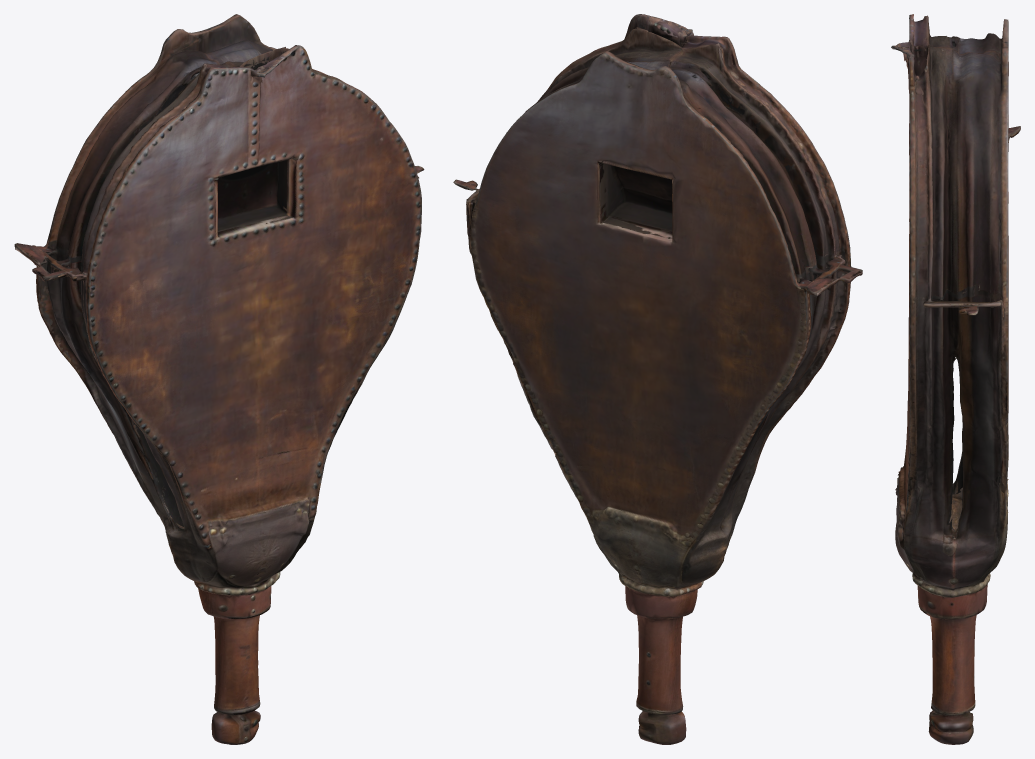
Rendered from a042_el_korugu.glb.
3 views of the same model, side by side, from view 1: azimuth 30°, elevation 25°; view 2: azimuth 150°, elevation 25°; view 3: azimuth 270°, elevation 25° (orthographic).
Size of the model in its own units: 1.17 by 1.99 by 0.3334.
Materials: 1 (1 with a texture image).
